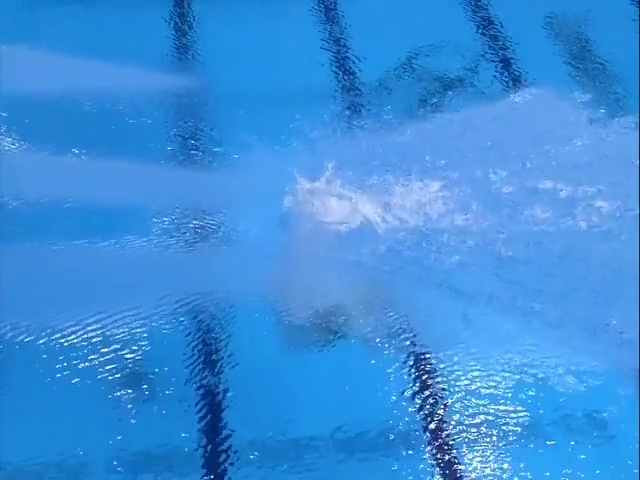splash: (289, 159, 389, 233)
